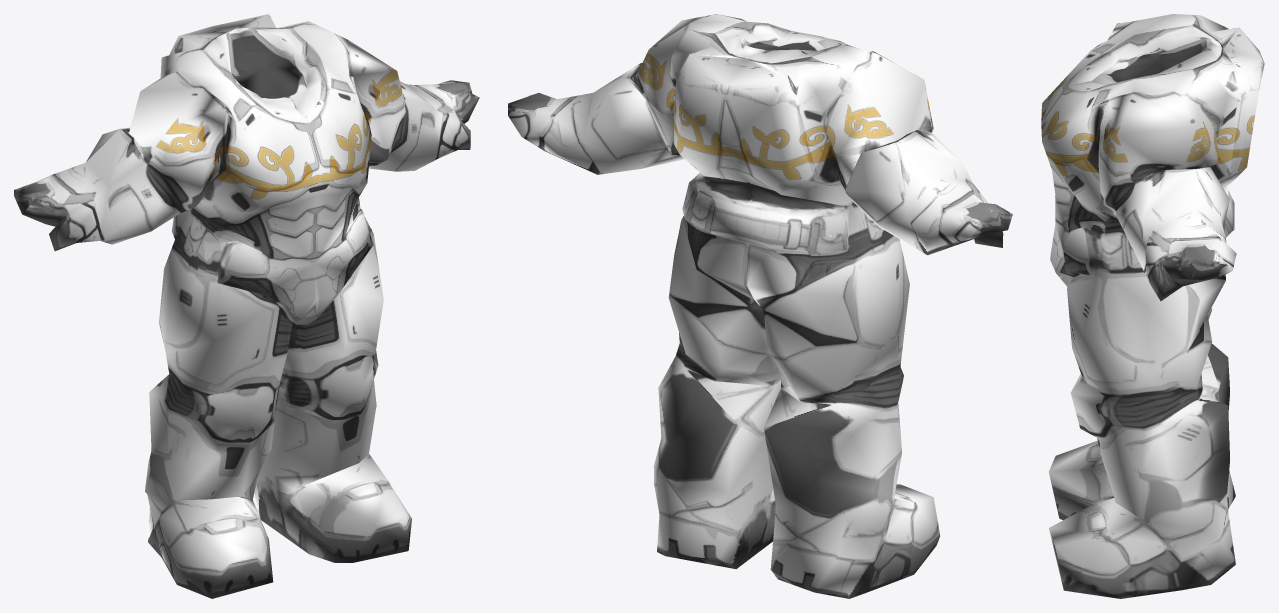
Rendered from ArmorCataphractPrestige.glb.
3 views of the same model, side by side, from view 1: azimuth 30°, elevation 25°; view 2: azimuth 150°, elevation 25°; view 3: azimuth 270°, elevation 25° (orthographic). The views are drawn at different scales.
Parts seen in each view (by area): view 1: ArmorCataphractPrestige; view 2: ArmorCataphractPrestige; view 3: ArmorCataphractPrestige.
Boxes of the visible parts, left/top/right/bottom form: ArmorCataphractPrestige: left=14, top=14, right=479, bottom=598; ArmorCataphractPrestige: left=508, top=14, right=1012, bottom=598; ArmorCataphractPrestige: left=1041, top=14, right=1264, bottom=598.
Bounding box in the file's own units: 20.43 × 21.3 × 8.55.
Materials: 1 (1 with a texture image).
